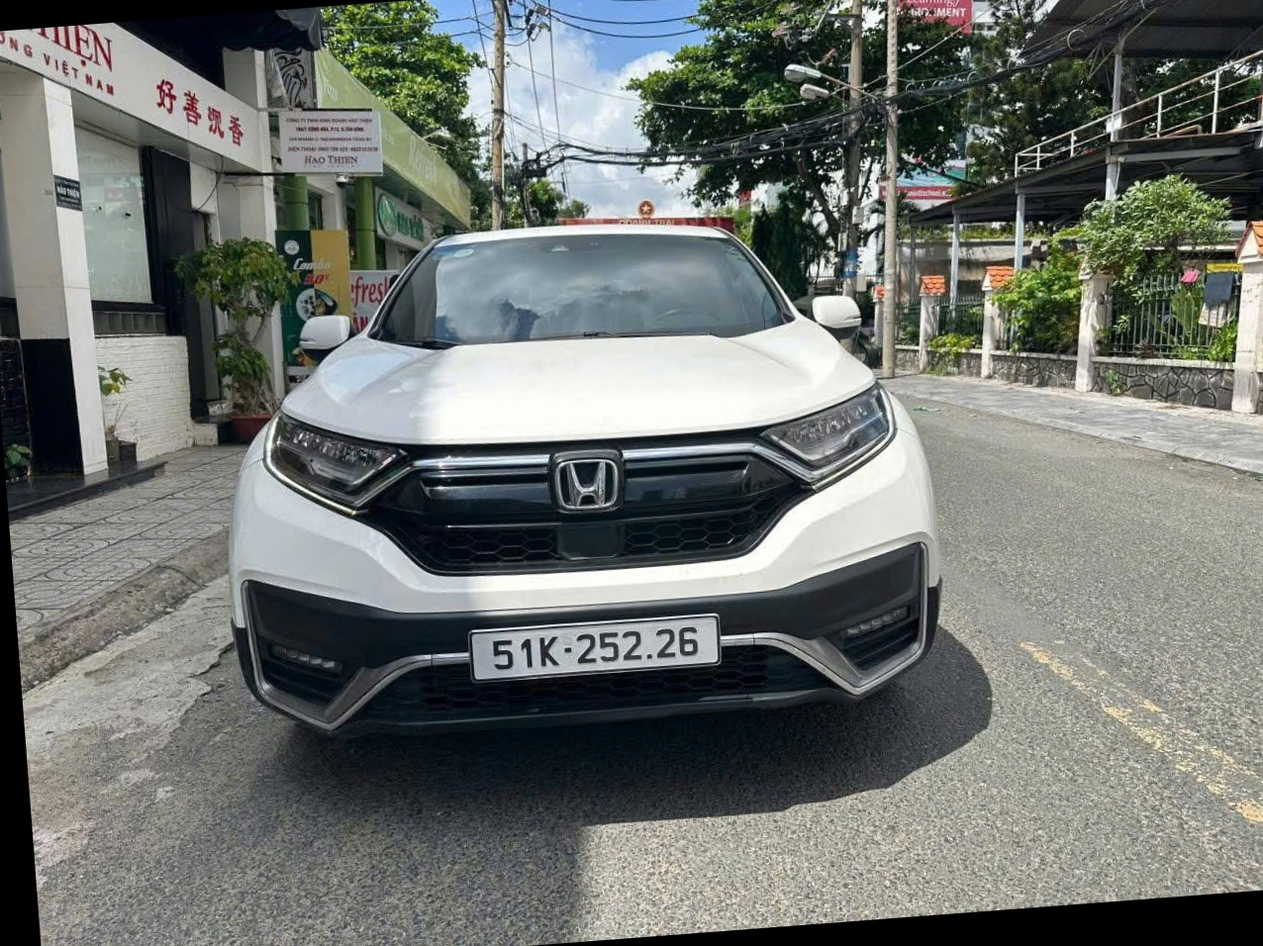Bien-so: (464, 602, 731, 686)
